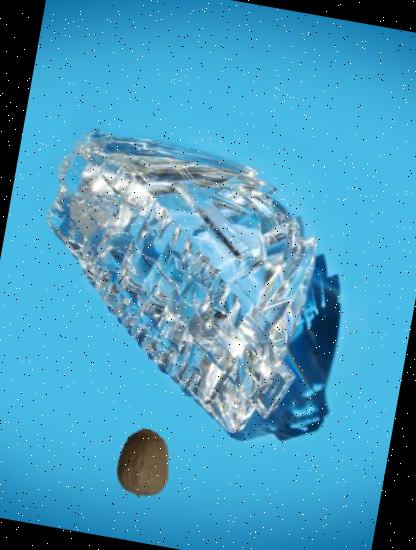Kiwi: (103, 423, 184, 504)
